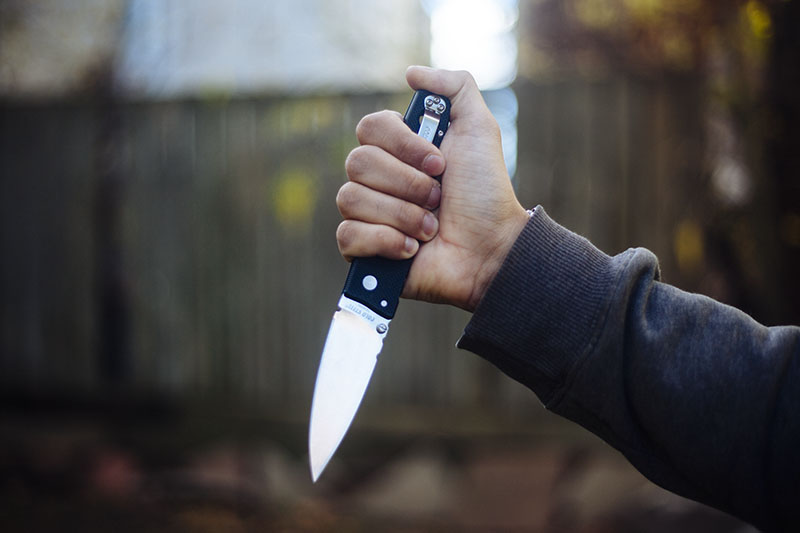knife: (291, 149, 457, 494)
